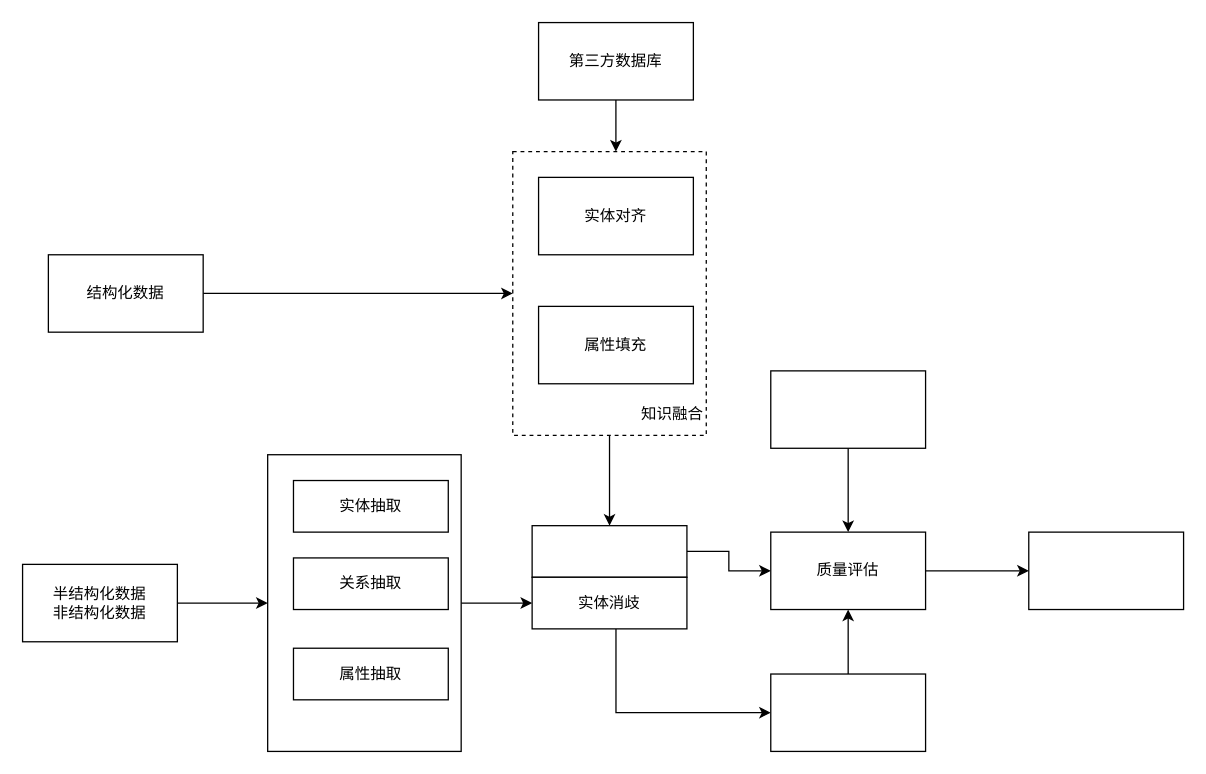
Some shapes in this 1206 by 774 pixel diagram are drawn without their labels. Each missing label, with the box of its shape:
共指消解: (531, 524, 687, 577)
本体抽取: (769, 673, 926, 751)
知识图谱: (1027, 531, 1184, 610)
知识抽取: (266, 453, 461, 751)
知识推理: (769, 370, 926, 448)
